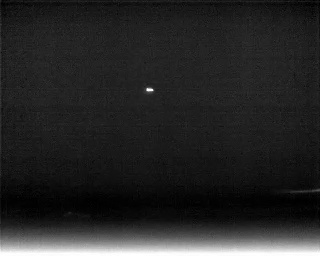AIRPLANE: (144, 85, 156, 95)
